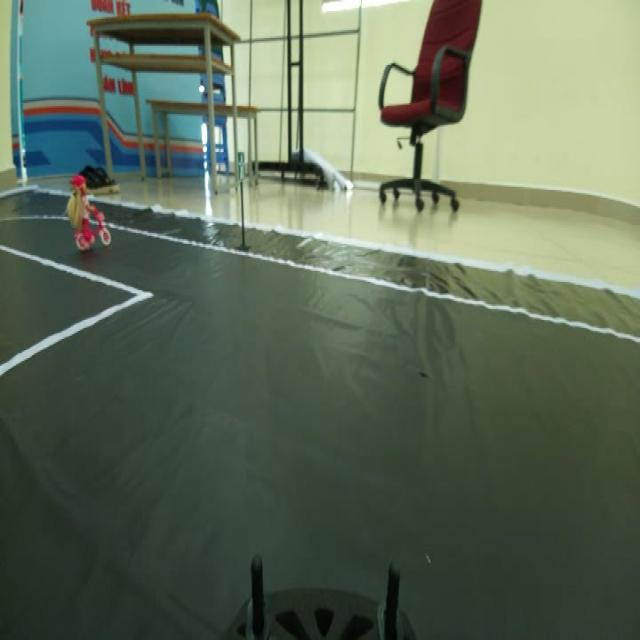pedestrian: (58, 166, 114, 241)
